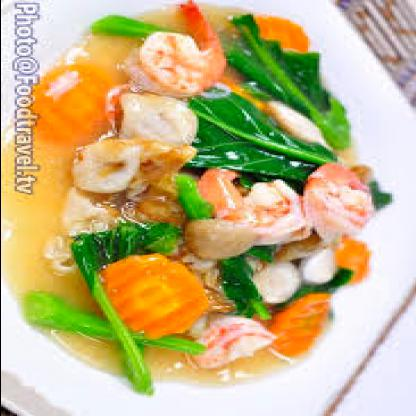Laadna: (34, 7, 362, 388)
